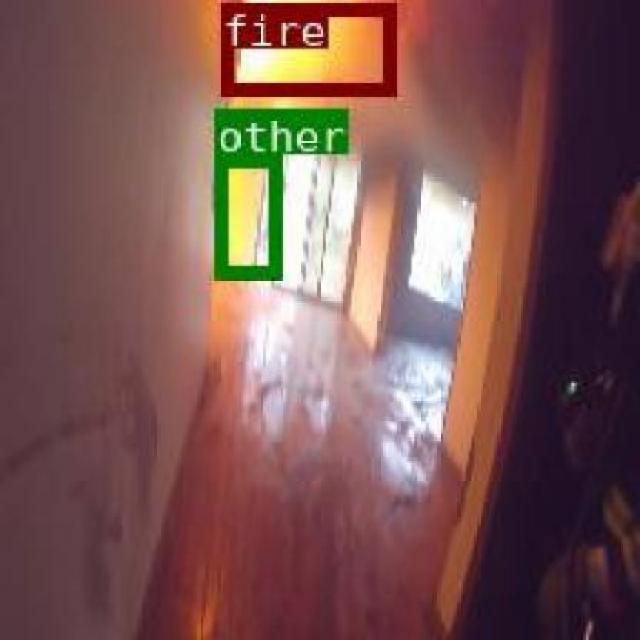Fire: (218, 0, 392, 92)
Smoke: (418, 9, 511, 175)
